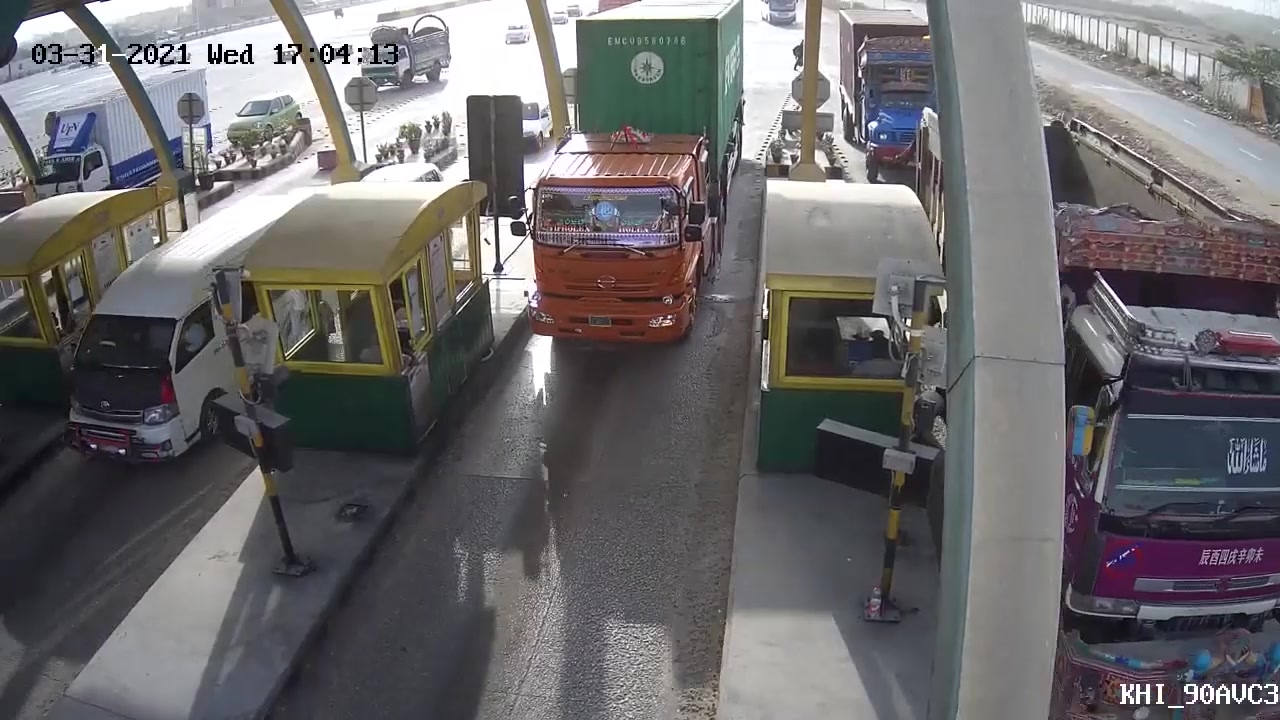F6: (512, 1, 754, 355)
